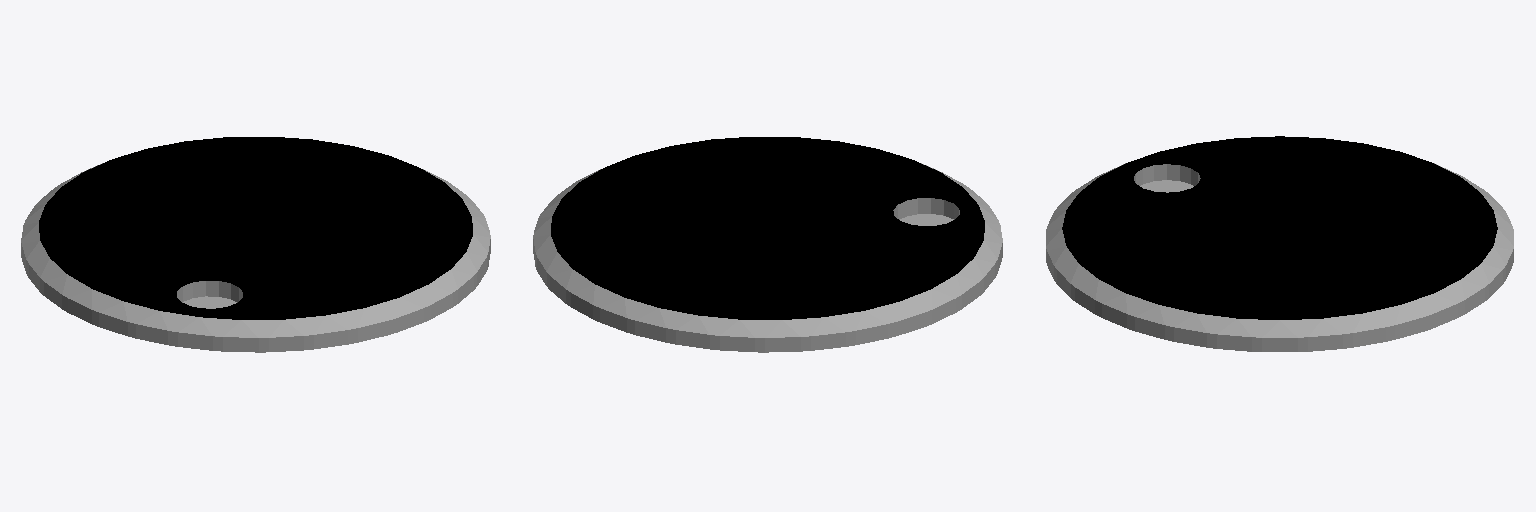
The model's file is editor_controller_base_left.sgm.obj.
3 renders of one model, left to right at view 1: azimuth 30°, elevation 25°; view 2: azimuth 150°, elevation 25°; view 3: azimuth 270°, elevation 25°, orthographic.
Visible parts, largest first — view 1: 1, 0; view 2: 1, 0; view 3: 1, 0.
Part boxes in pixels (left/top/right/bottom): 1: left=39, top=137, right=472, bottom=319; 0: left=21, top=163, right=490, bottom=352; 1: left=551, top=137, right=984, bottom=319; 0: left=533, top=163, right=1002, bottom=352; 1: left=1062, top=136, right=1497, bottom=319; 0: left=1046, top=163, right=1513, bottom=351.
Bounding box in the file's own units: 0.0695 × 0.0091 × 0.0695.